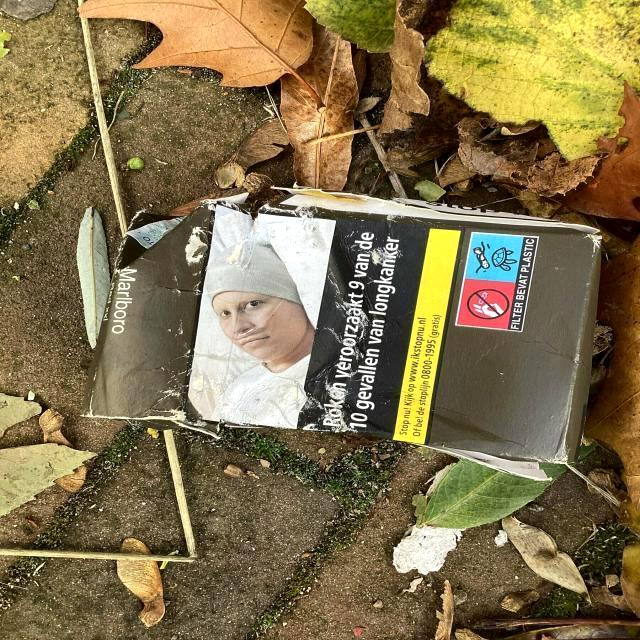Paper: (74, 182, 610, 484)
